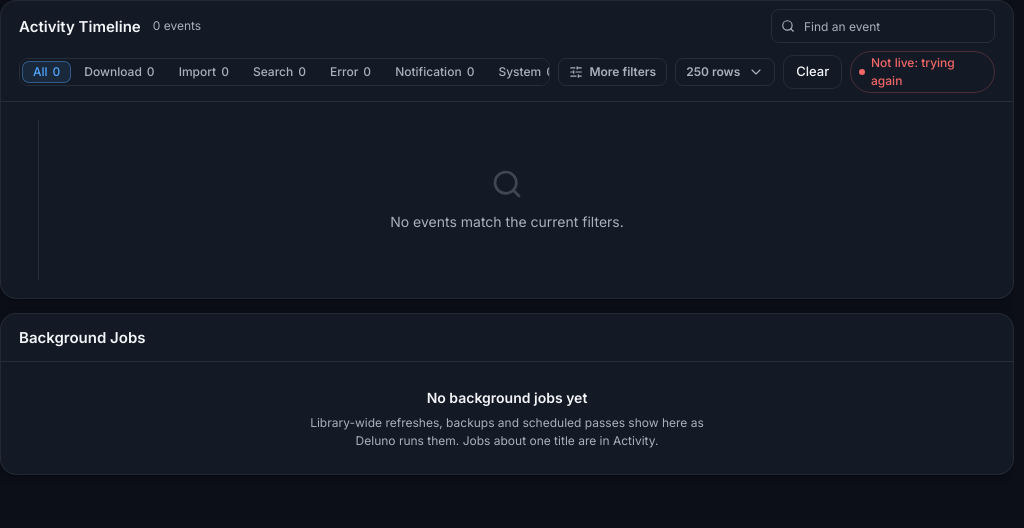
Test: Activity timeline page size (#871) › changing the select saves the new page size and refetches the timeline
The width and height of the screenshot is (1024, 528).
Click the dropdown named "Rows shown" at {"x": 725, "y": 72}, box [675,58,775,86]
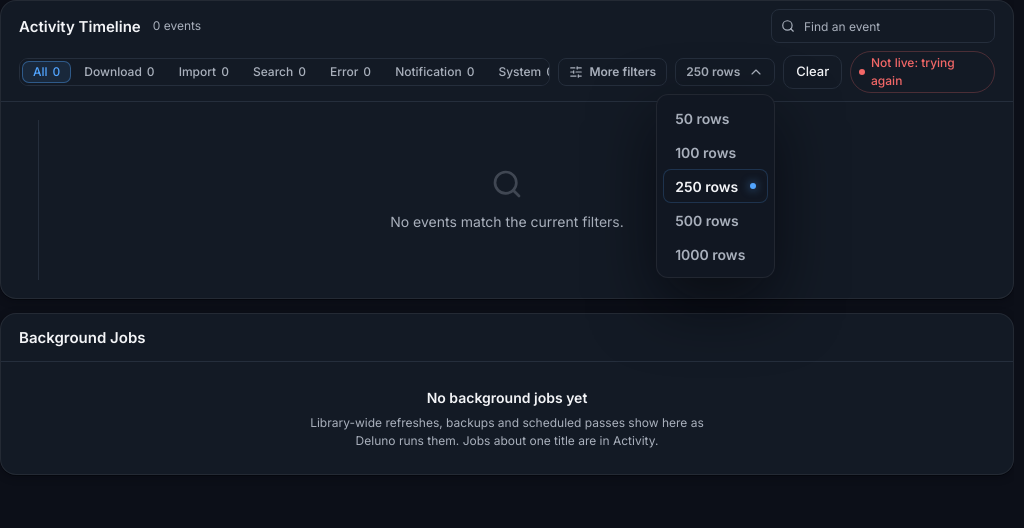
Click the option "1000 rows" at {"x": 716, "y": 254}, box [663,237,768,271]
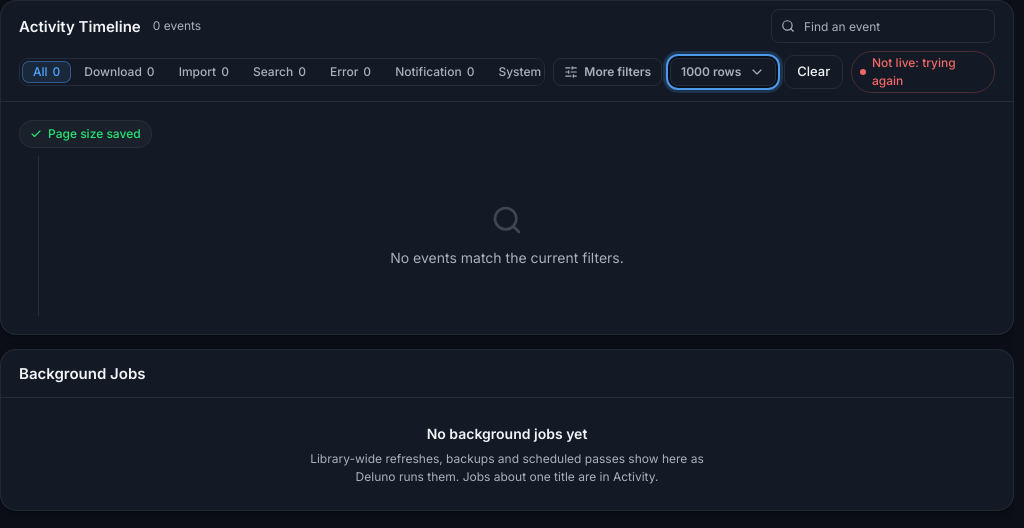
Result: the dropdown named "Rows shown" reads "1000 rows" at [670,58,776,86]
Result: the text "Page size saved" is shown at [19,120,152,148]
